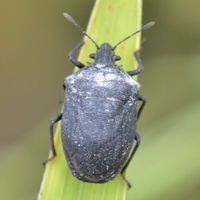insect: (45, 13, 154, 187)
